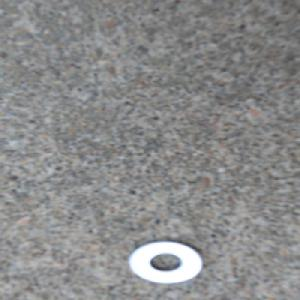Washer: (126, 239, 205, 284)
